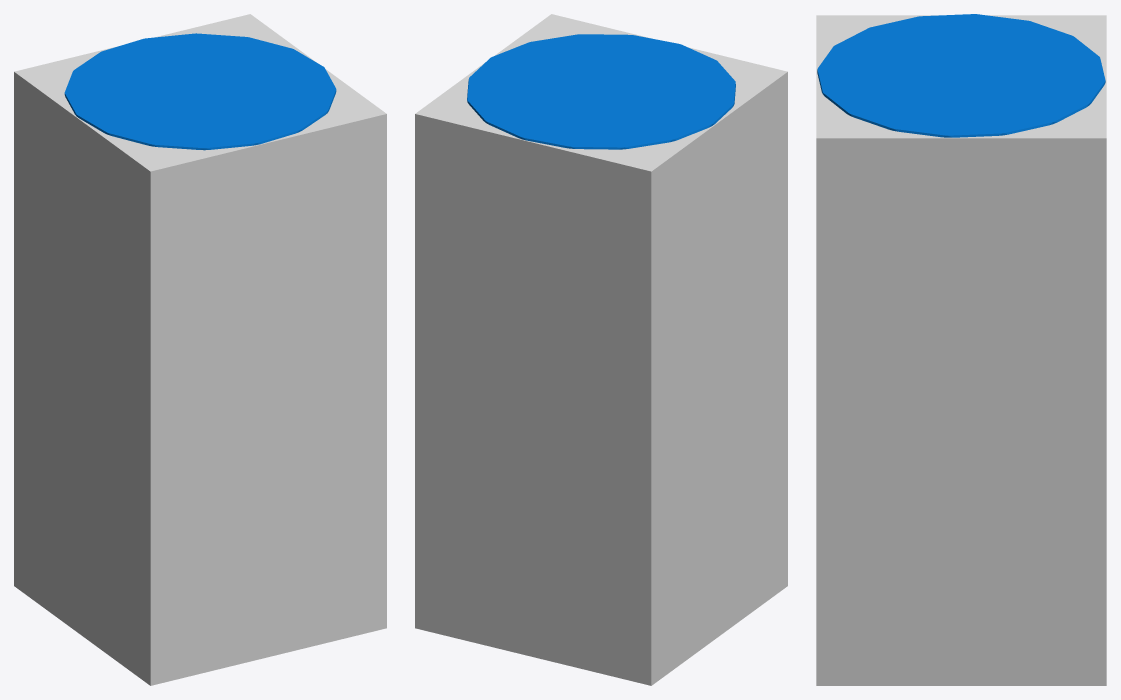
Rendered from Pillar.gltf.
3 views of the same model, side by side, from view 1: azimuth 30°, elevation 25°; view 2: azimuth 150°, elevation 25°; view 3: azimuth 270°, elevation 25° (orthographic). The views are drawn at different scales.
Parts seen in each view (by area): view 1: COL, 円柱; view 2: COL, 円柱; view 3: COL, 円柱.
Part boxes in pixels (bbox=[...]): COL: bbox=[14, 14, 386, 685]; 円柱: bbox=[64, 33, 336, 150]; COL: bbox=[415, 14, 787, 685]; 円柱: bbox=[467, 34, 735, 149]; COL: bbox=[816, 15, 1106, 685]; 円柱: bbox=[817, 14, 1105, 137].
Size of the model in its own units: 2 by 4.17 by 2.
